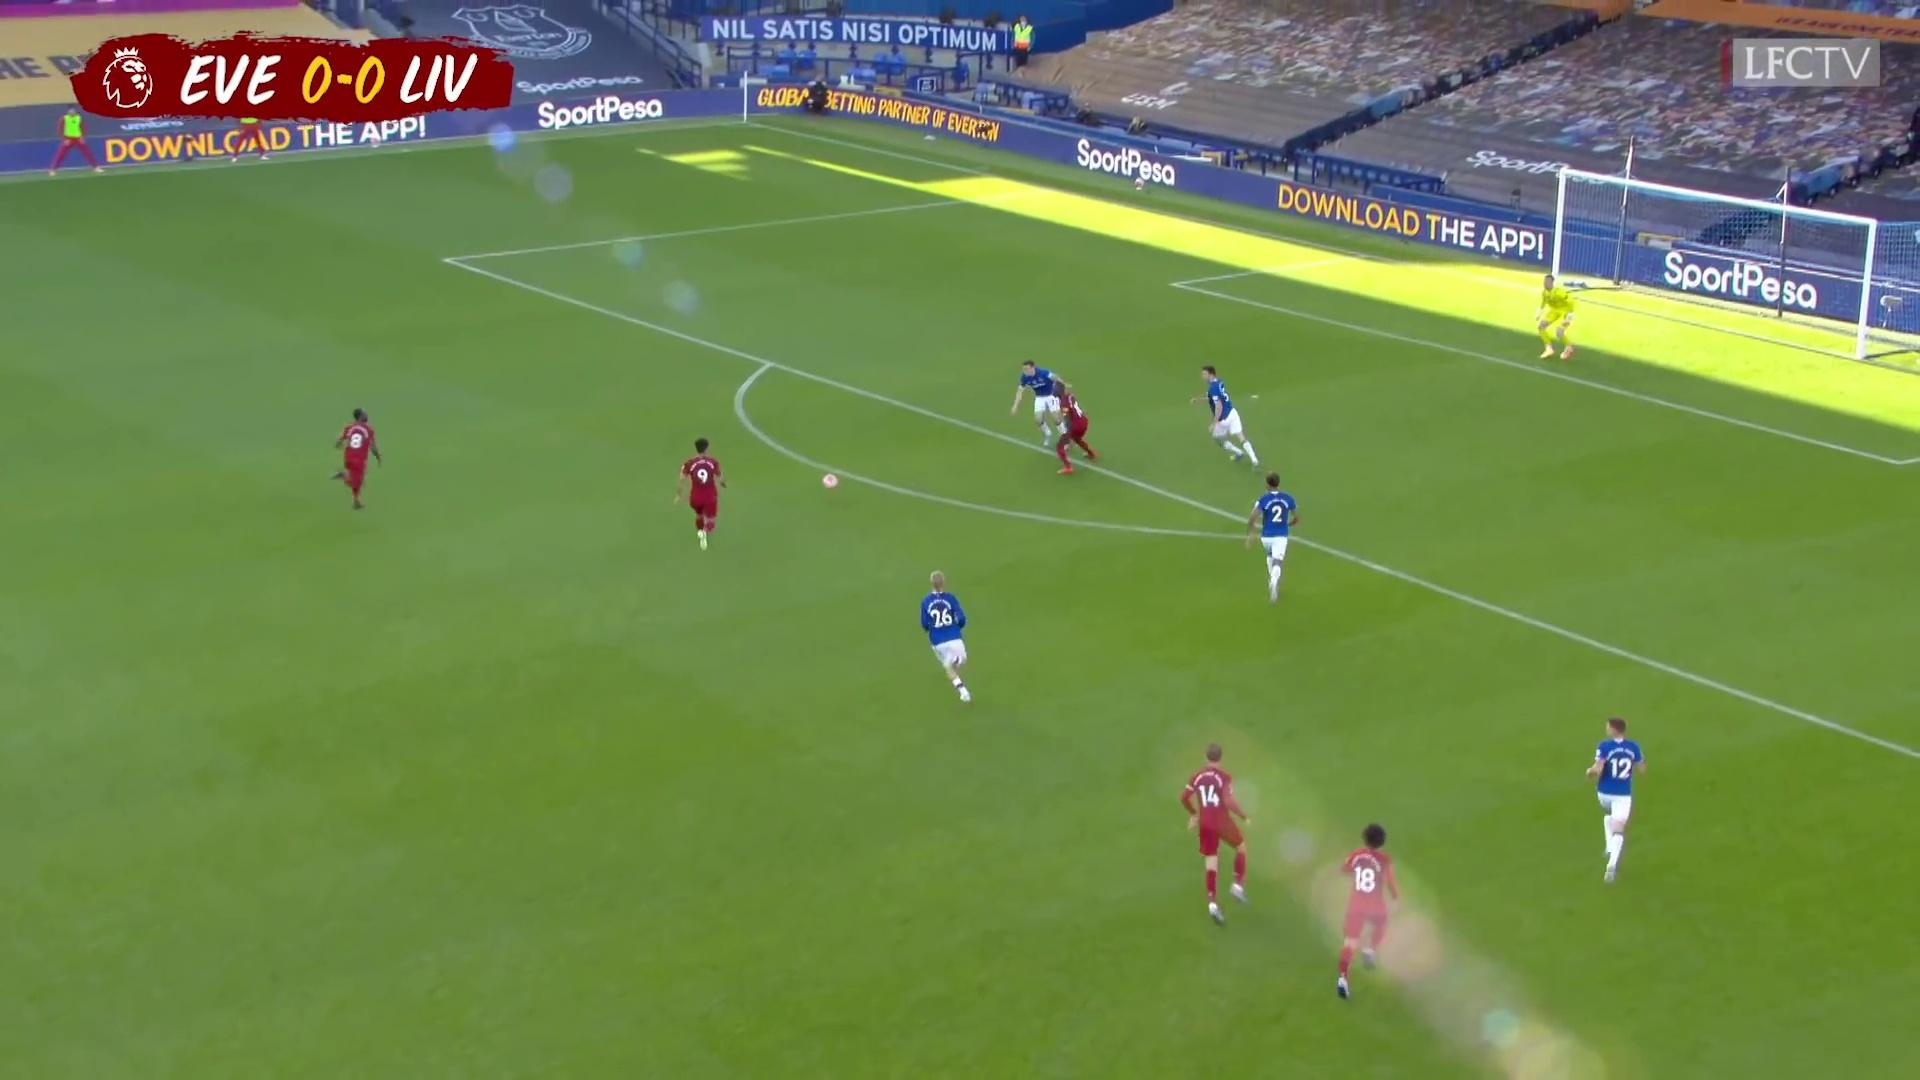ball: (821, 473, 839, 490)
goalkeeper: (1530, 272, 1577, 366)
player: (1181, 736, 1261, 929), (1327, 817, 1407, 1006), (1588, 711, 1656, 891), (913, 566, 976, 708), (1195, 363, 1269, 472), (1249, 469, 1306, 606), (673, 433, 729, 554), (330, 402, 383, 520), (1012, 358, 1075, 445), (1057, 377, 1109, 477)
